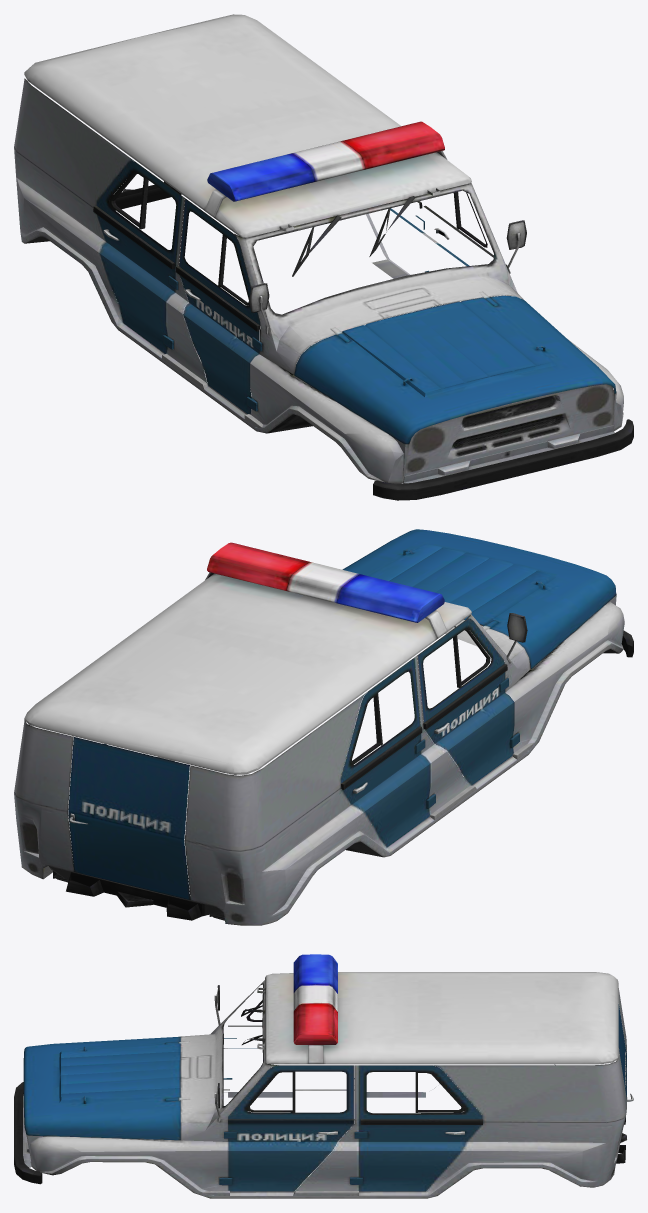
The model's file is police.glb.
3 views of the same model, one above another, from view 1: azimuth 30°, elevation 25°; view 2: azimuth 150°, elevation 25°; view 3: azimuth 270°, elevation 25° (orthographic). The views are drawn at different scales.
Parts seen in each view (by area): view 1: police; view 2: police; view 3: police.
Boxes of the visible parts, bbox=[...] form: police: bbox=[14, 14, 633, 500]; police: bbox=[14, 529, 633, 925]; police: bbox=[14, 954, 633, 1198].
Bounding box in the file's own units: 1.79 × 1.21 × 4.44.
Materials: 1 (1 with a texture image).
